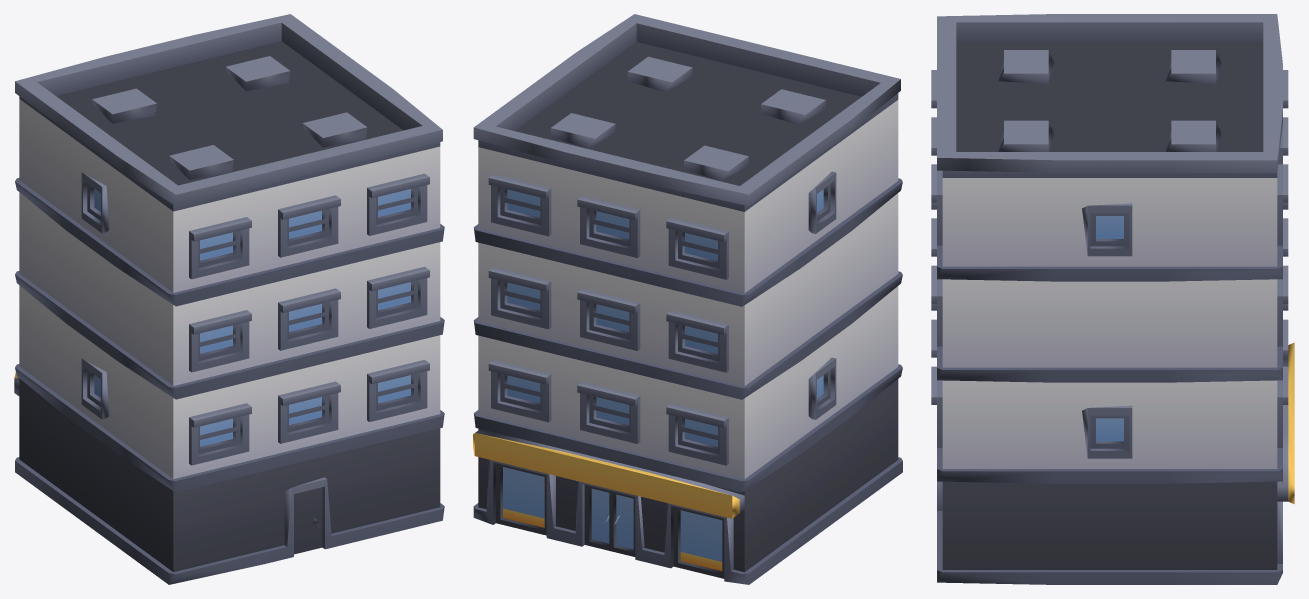
File: 083_city-kit-commercial_building-i_card.glb
The picture shows the model from 3 angles, left to right: view 1: azimuth 30°, elevation 25°; view 2: azimuth 150°, elevation 25°; view 3: azimuth 270°, elevation 25°; orthographic projection. The views are drawn at different scales.
Visible parts, largest first — view 1: building-i; view 2: building-i; view 3: building-i.
Part boxes in pixels (left/top/right/bottom): building-i: left=14, top=14, right=444, bottom=584; building-i: left=473, top=14, right=902, bottom=584; building-i: left=931, top=14, right=1294, bottom=584.
Bounding box in the file's own units: 1.24 × 1.68 × 1.3.
Materials: 1 (1 with a texture image).
